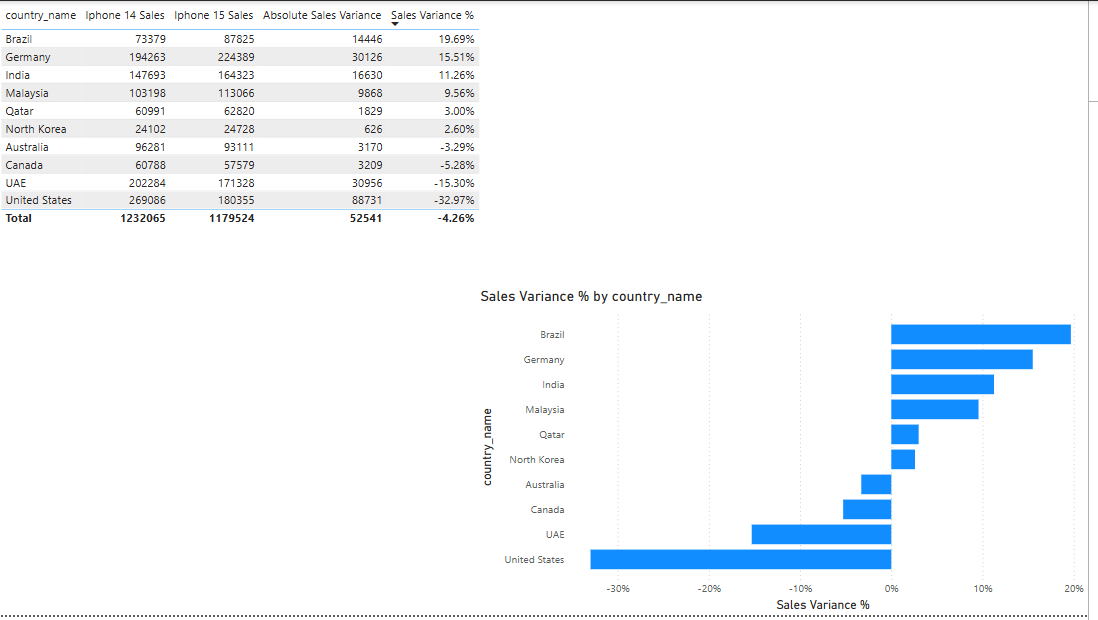

This screenshot's page, from the dashboard's own definition file:
{"tool":"powerbi","page":{"name":"Page 1","canvas":[1280,720],"ordinal":0},"visuals":[{"type":"tableEx","fields":{"Values":["dim_stores.country_name","dim_stores.Iphone 14 Sales","dim_stores.Iphone 15 Sales","dim_stores.Absolute Sales Variance","dim_stores.Sales Variance"]},"box":[0,0,706.7,359.5],"z":0},{"type":"clusteredBarChart","fields":{"Category":["dim_stores.country_name"],"Y":["dim_stores.Sales Variance"]},"box":[562.6,334.8,717.7,385.6],"z":1000}]}

Visuals, with their boxes in screenshot pixels (x1, y1, x2, y2), scaled from the page's 1280x720 canvas onto the 1098x620 screenshot:
tableEx - dim_stores.country_name x dim_stores.Iphone 14 Sales: bbox=(0, 0, 606, 310)
clusteredBarChart - dim_stores.country_name x dim_stores.Sales Variance: bbox=(483, 288, 1097, 619)
